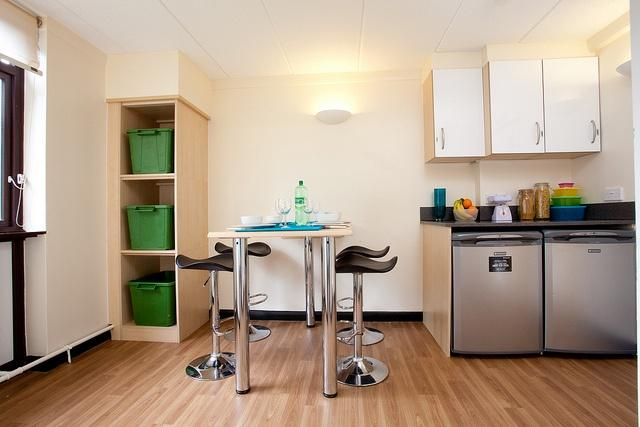Lemari: (420, 54, 601, 163)
Rak: (115, 93, 180, 342)
